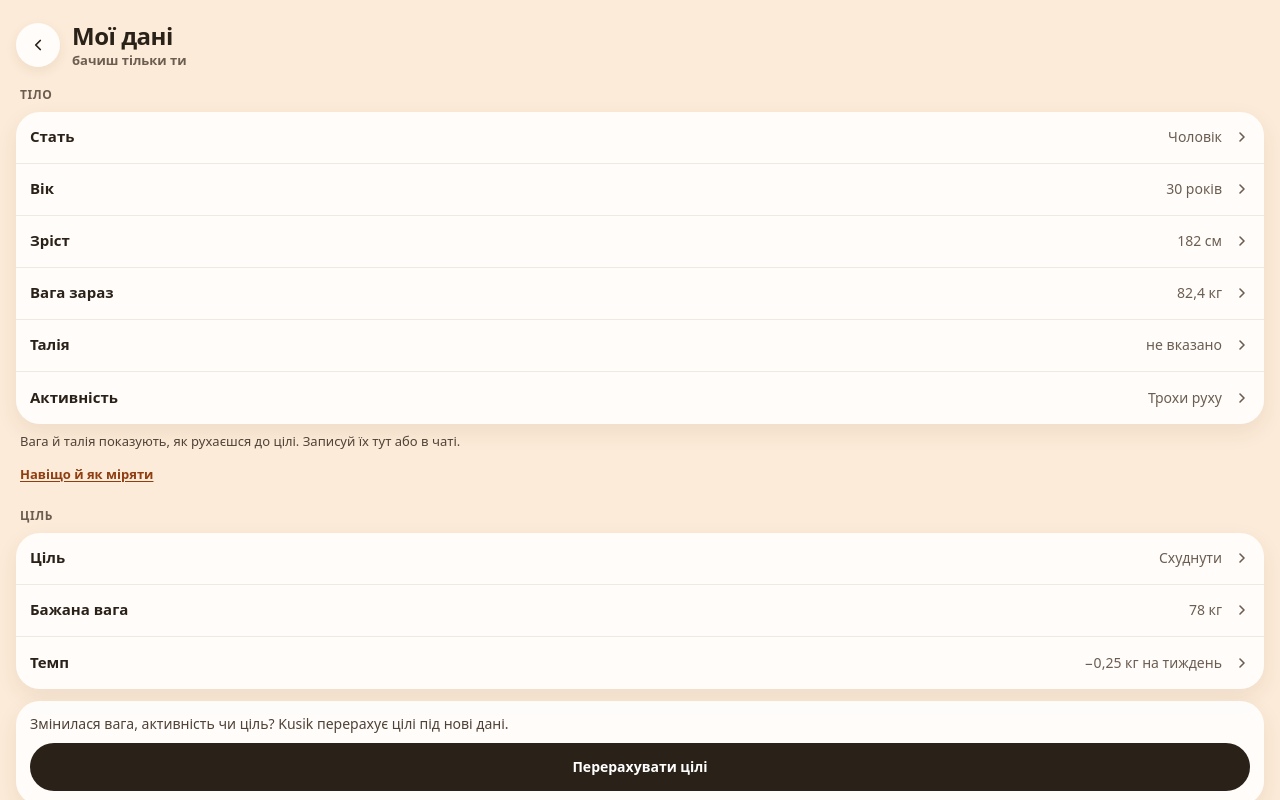
MyDataPage measurements › opens the info sheet from the link and closes it with «Зрозуміло»
Click the button "Навіщо й як міряти": [87, 474] box [4,452,170,496]
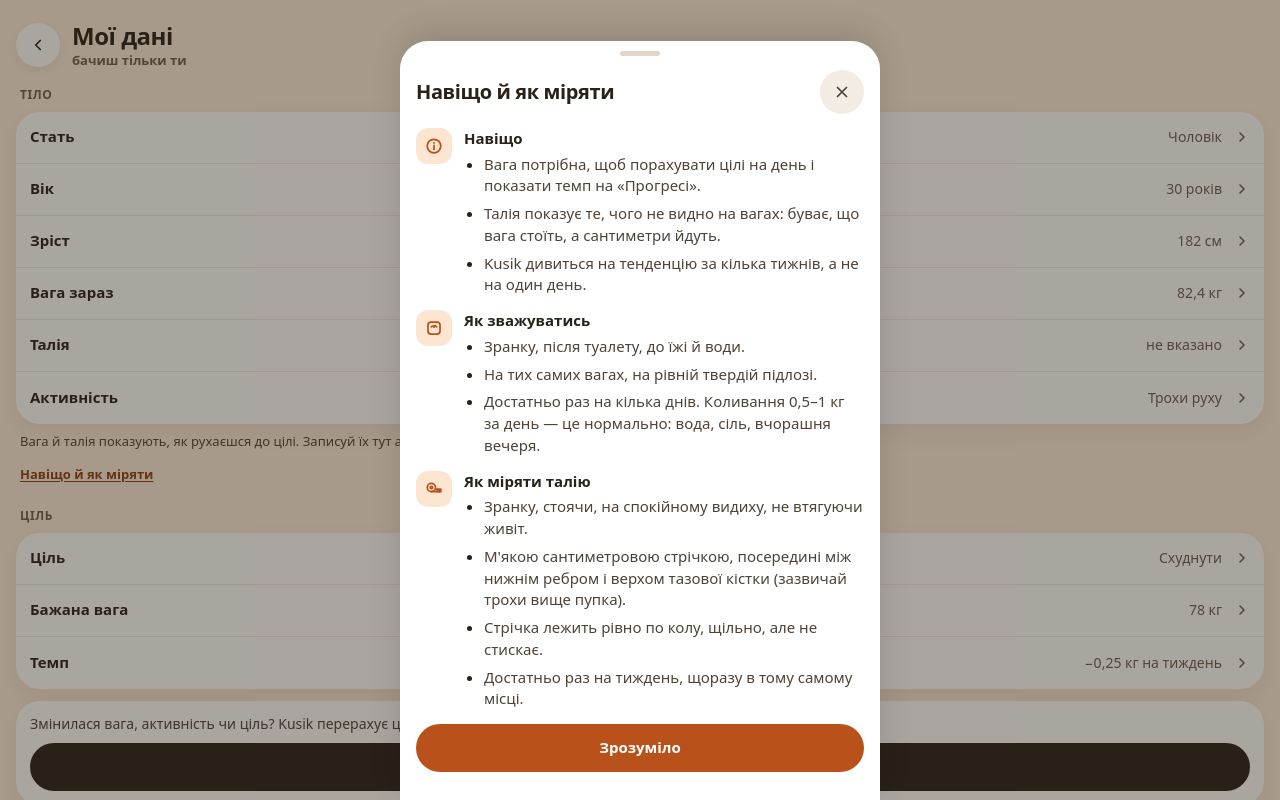
Check: the heading "Як міряти талію" is shown, box [464,470,590,490]
Click the button "Зрозуміло": [640, 748] box [416,724,864,772]
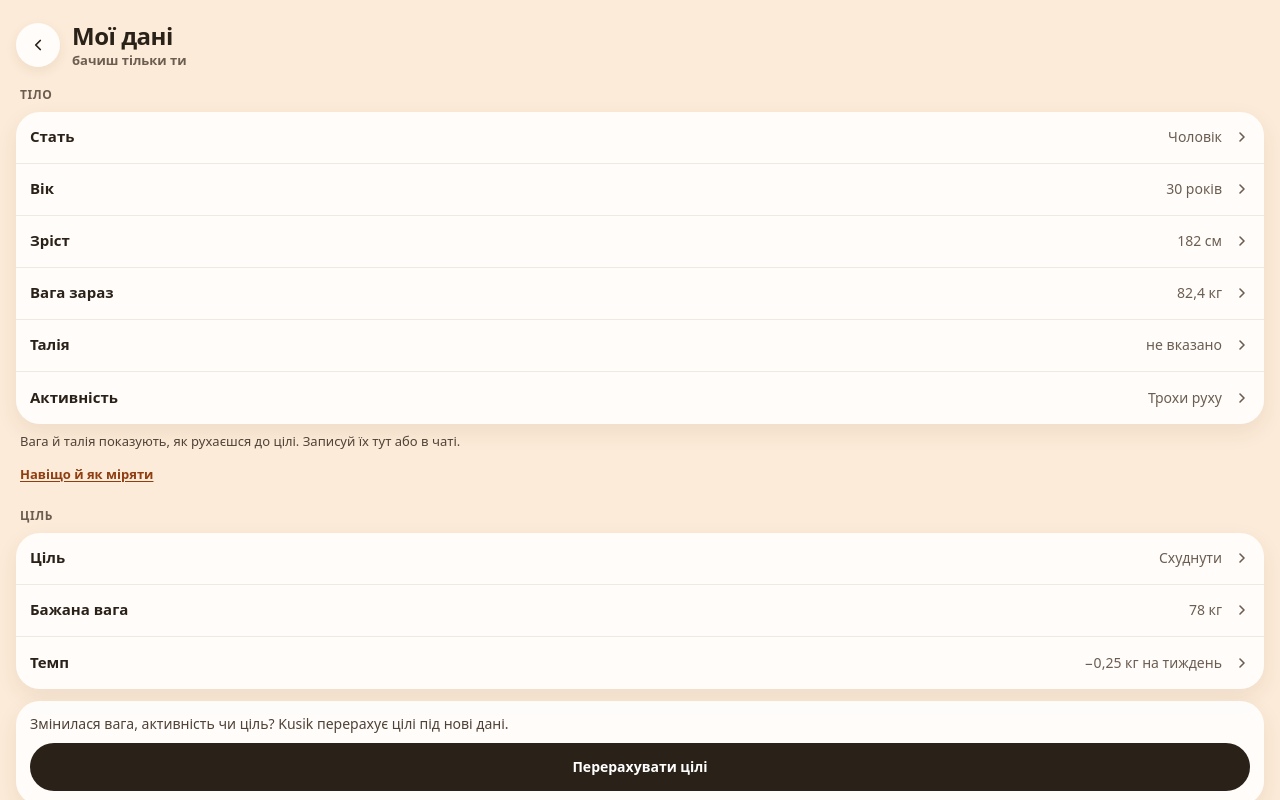
Check: the heading "Як міряти талію" is gone
